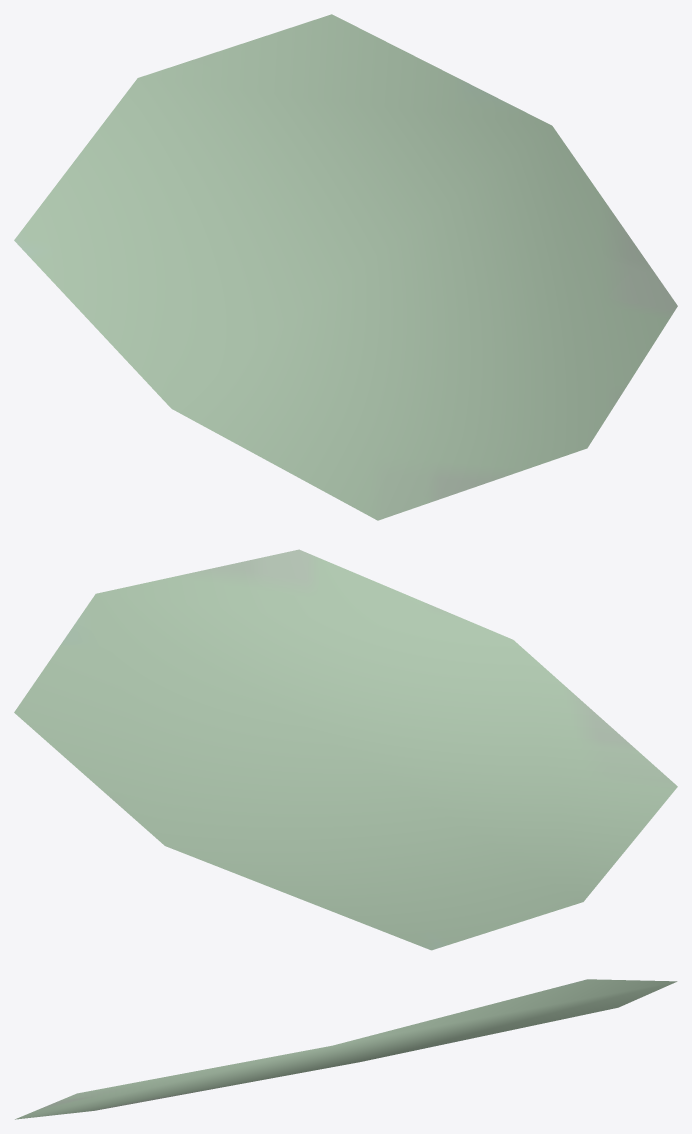
The model's file is TROLLHOLE02_HOLECAP91.fbx.
3 views of the same model, one above another, from view 1: azimuth 30°, elevation 25°; view 2: azimuth 150°, elevation 25°; view 3: azimuth 270°, elevation 25° (orthographic). The views are drawn at different scales.
Parts seen in each view (by area): view 1: TROLLHOLE02_HOLECAP91; view 2: TROLLHOLE02_HOLECAP91; view 3: TROLLHOLE02_HOLECAP91.
Boxes of the visible parts, <box> form: TROLLHOLE02_HOLECAP91: <box>14,14,677,520</box>; TROLLHOLE02_HOLECAP91: <box>14,549,677,950</box>; TROLLHOLE02_HOLECAP91: <box>15,979,677,1119</box>.
Size of the model in its own units: 8974 by 4626 by 14068.
Materials: 1 (1 with a texture image).
